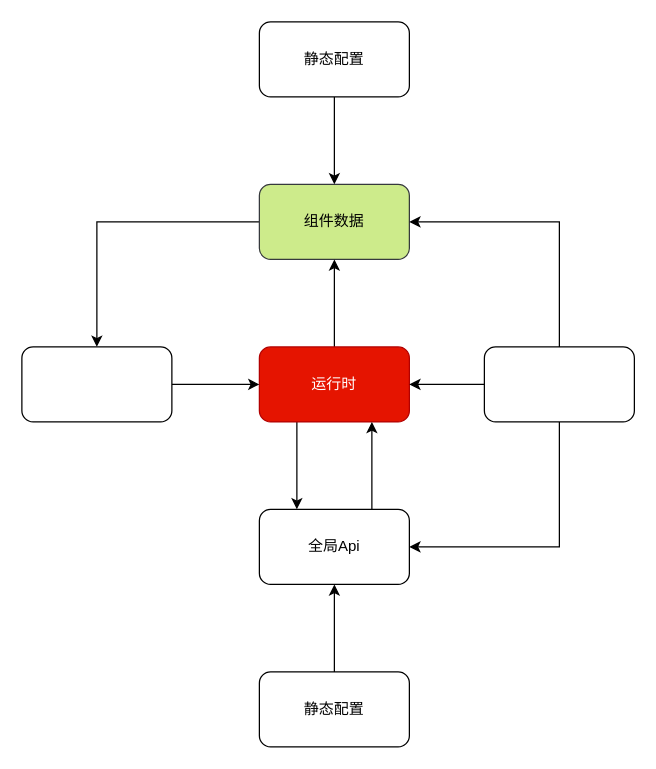
Image size: 656x769. Some labels were removed from this diagram. Here are the shapes that lost their labels. From the top down, the box of each, then its label:
(21, 346, 172, 422): global 静态注入
(483, 346, 634, 422): Url 参数
